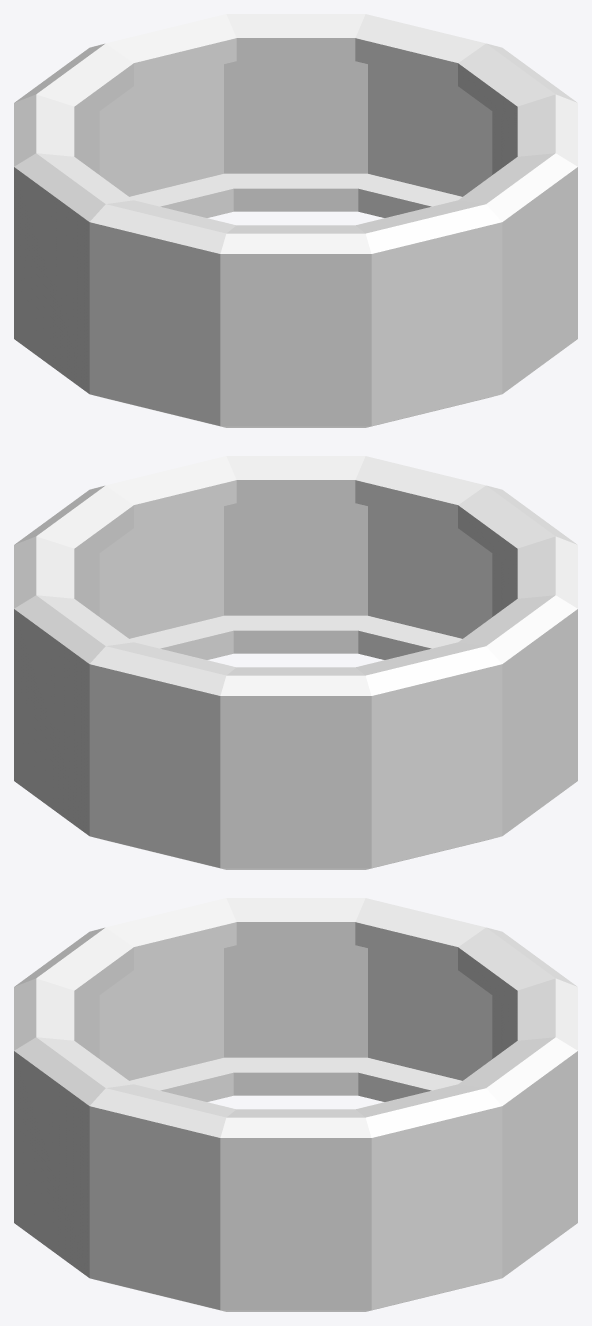
Rendered from Prop_Tire_01.glb.
The picture shows the model from 3 angles, top to bottom: view 1: azimuth 30°, elevation 25°; view 2: azimuth 150°, elevation 25°; view 3: azimuth 270°, elevation 25°; orthographic projection.
Visible parts, largest first — view 1: Prop_Tire_01; view 2: Prop_Tire_01; view 3: Prop_Tire_01.
Part boxes in pixels (x1=…): Prop_Tire_01: x1=14, y1=14, x2=577, y2=427; Prop_Tire_01: x1=14, y1=456, x2=577, y2=869; Prop_Tire_01: x1=14, y1=898, x2=577, y2=1311.
Size of the model in its own units: 0.8017 by 0.3049 by 0.8017.
1 material, 1 textured.
